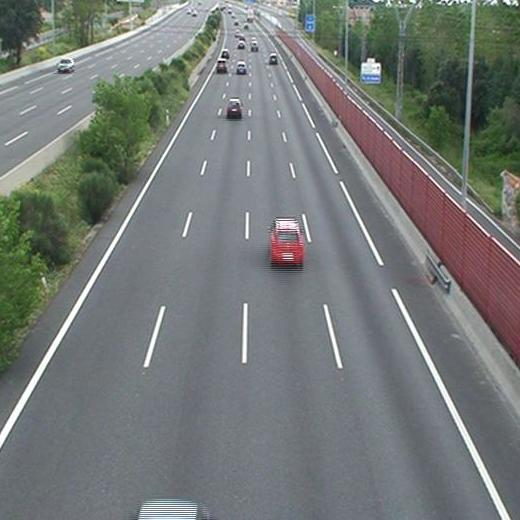car: (270, 220, 304, 262), (227, 98, 242, 116), (216, 59, 227, 72), (236, 62, 247, 73), (269, 53, 278, 63), (237, 40, 246, 49), (221, 49, 229, 57), (250, 42, 257, 51)
